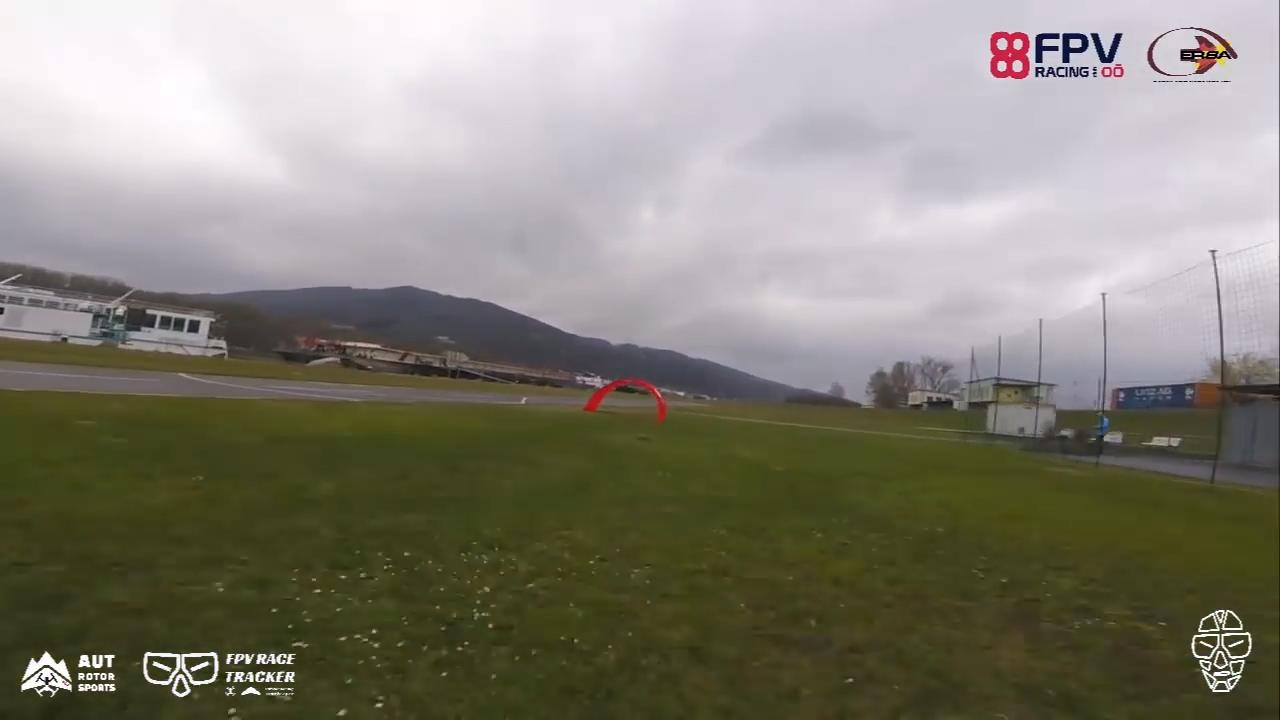gate: (582, 377, 666, 424)
